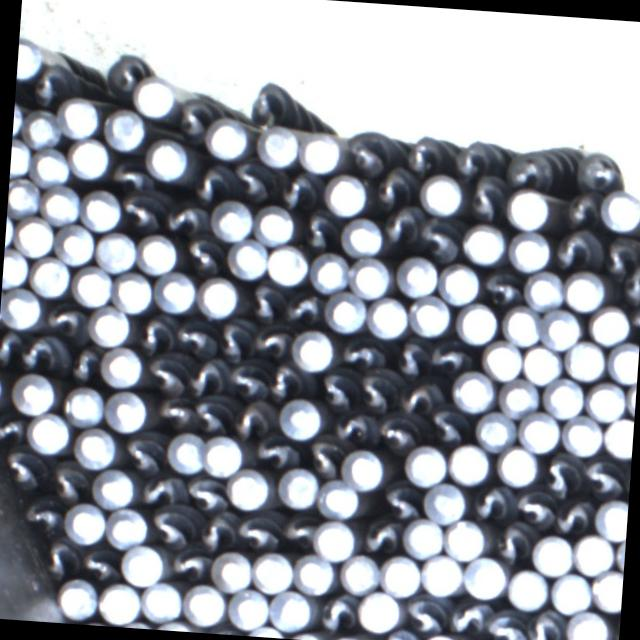tool: (6, 370, 58, 416), (98, 386, 146, 434), (254, 121, 300, 168), (288, 326, 336, 371), (96, 579, 142, 625), (117, 542, 163, 588), (354, 588, 402, 632), (204, 116, 252, 160), (447, 440, 492, 486), (562, 337, 608, 382), (264, 241, 310, 286), (56, 95, 102, 140), (402, 442, 448, 487), (63, 500, 108, 546), (251, 548, 295, 595), (163, 430, 210, 474), (73, 424, 118, 469), (135, 230, 180, 275), (300, 128, 344, 174), (462, 554, 506, 600), (322, 173, 368, 217), (86, 303, 132, 347), (180, 582, 226, 626), (19, 108, 65, 152), (571, 531, 616, 575), (438, 260, 482, 305), (421, 479, 465, 524), (586, 302, 631, 346), (395, 254, 439, 299), (28, 254, 73, 298), (153, 270, 198, 314), (96, 344, 141, 388), (400, 516, 446, 559), (66, 136, 112, 179), (224, 468, 270, 511), (25, 412, 71, 455), (90, 466, 136, 509), (542, 376, 586, 420), (419, 552, 463, 596), (102, 106, 146, 150), (70, 264, 114, 308), (111, 270, 155, 314), (548, 570, 592, 614), (456, 300, 500, 344), (54, 576, 98, 620), (504, 566, 548, 610), (226, 585, 270, 629), (138, 579, 182, 623), (78, 187, 122, 231), (278, 394, 322, 438), (209, 199, 254, 242), (507, 229, 552, 272), (132, 76, 178, 118), (106, 504, 148, 550), (379, 554, 422, 598), (348, 256, 392, 299), (560, 414, 604, 457), (367, 294, 410, 338), (94, 229, 138, 272), (506, 187, 550, 230), (531, 532, 574, 576), (562, 270, 606, 313), (197, 274, 240, 318), (324, 290, 367, 334), (342, 446, 386, 489), (540, 306, 582, 351), (444, 516, 486, 561), (451, 372, 496, 414), (339, 215, 384, 257), (267, 589, 313, 630), (518, 411, 561, 454), (225, 236, 268, 279), (460, 223, 503, 266), (309, 251, 352, 294), (337, 552, 380, 595), (584, 378, 626, 422), (418, 172, 462, 214), (317, 478, 361, 520), (293, 553, 337, 595), (144, 138, 188, 180), (499, 304, 542, 346), (480, 338, 522, 381), (14, 215, 56, 258), (54, 222, 96, 265), (409, 294, 451, 337), (495, 444, 538, 486), (40, 183, 82, 226), (252, 202, 295, 244), (61, 384, 104, 426), (312, 518, 356, 559), (203, 433, 243, 478), (519, 343, 561, 385), (474, 409, 516, 451), (523, 270, 564, 311), (278, 468, 320, 508), (600, 189, 640, 230), (2, 288, 42, 329), (499, 378, 539, 418), (590, 568, 624, 612), (606, 340, 640, 384), (564, 607, 609, 640), (594, 497, 628, 540), (601, 414, 634, 457), (30, 146, 67, 184), (7, 176, 43, 215), (2, 248, 30, 288), (16, 39, 43, 79), (9, 139, 31, 178)
tool_b: (507, 142, 579, 188), (344, 128, 396, 174), (103, 52, 151, 100), (412, 212, 460, 260), (248, 76, 292, 128), (452, 136, 507, 177), (230, 396, 280, 439), (171, 95, 216, 142), (536, 452, 584, 496), (404, 134, 454, 176), (232, 158, 277, 204), (0, 445, 46, 490), (18, 333, 72, 371), (121, 428, 167, 472), (510, 484, 554, 530), (488, 520, 532, 566), (314, 588, 358, 634), (402, 590, 448, 634), (596, 229, 640, 275), (188, 158, 233, 202), (578, 146, 623, 190), (447, 595, 491, 640), (22, 492, 65, 538), (30, 61, 72, 108), (47, 456, 91, 500), (353, 369, 398, 412), (462, 178, 504, 224), (147, 508, 197, 546), (373, 166, 416, 210), (234, 510, 281, 550), (119, 190, 162, 233), (551, 490, 595, 532), (560, 188, 606, 228), (552, 229, 598, 269), (180, 233, 226, 273), (424, 404, 470, 444), (250, 434, 302, 469), (174, 314, 216, 357), (374, 408, 418, 449), (163, 194, 208, 234), (226, 356, 268, 398), (38, 537, 80, 579), (132, 312, 176, 352), (142, 354, 186, 394), (184, 356, 228, 396), (478, 267, 523, 306), (181, 472, 226, 511), (214, 315, 252, 361), (106, 155, 150, 194), (308, 436, 346, 481), (318, 368, 359, 409), (278, 168, 318, 210), (242, 280, 282, 322), (191, 394, 233, 434), (381, 480, 423, 520), (78, 540, 120, 580), (332, 407, 376, 445), (41, 300, 84, 338), (359, 516, 402, 554), (135, 472, 183, 506), (396, 376, 441, 412), (380, 204, 420, 244), (150, 392, 194, 428), (484, 605, 529, 640), (519, 608, 568, 640), (338, 334, 384, 368), (425, 338, 471, 372), (250, 321, 290, 360), (474, 481, 514, 520), (283, 288, 324, 326), (198, 510, 235, 552), (300, 210, 336, 253), (580, 456, 618, 496), (278, 508, 318, 546), (264, 362, 304, 398), (393, 338, 429, 377), (167, 545, 209, 578), (612, 262, 640, 303), (68, 344, 98, 382), (0, 407, 26, 446), (0, 326, 22, 367), (377, 625, 419, 640)
